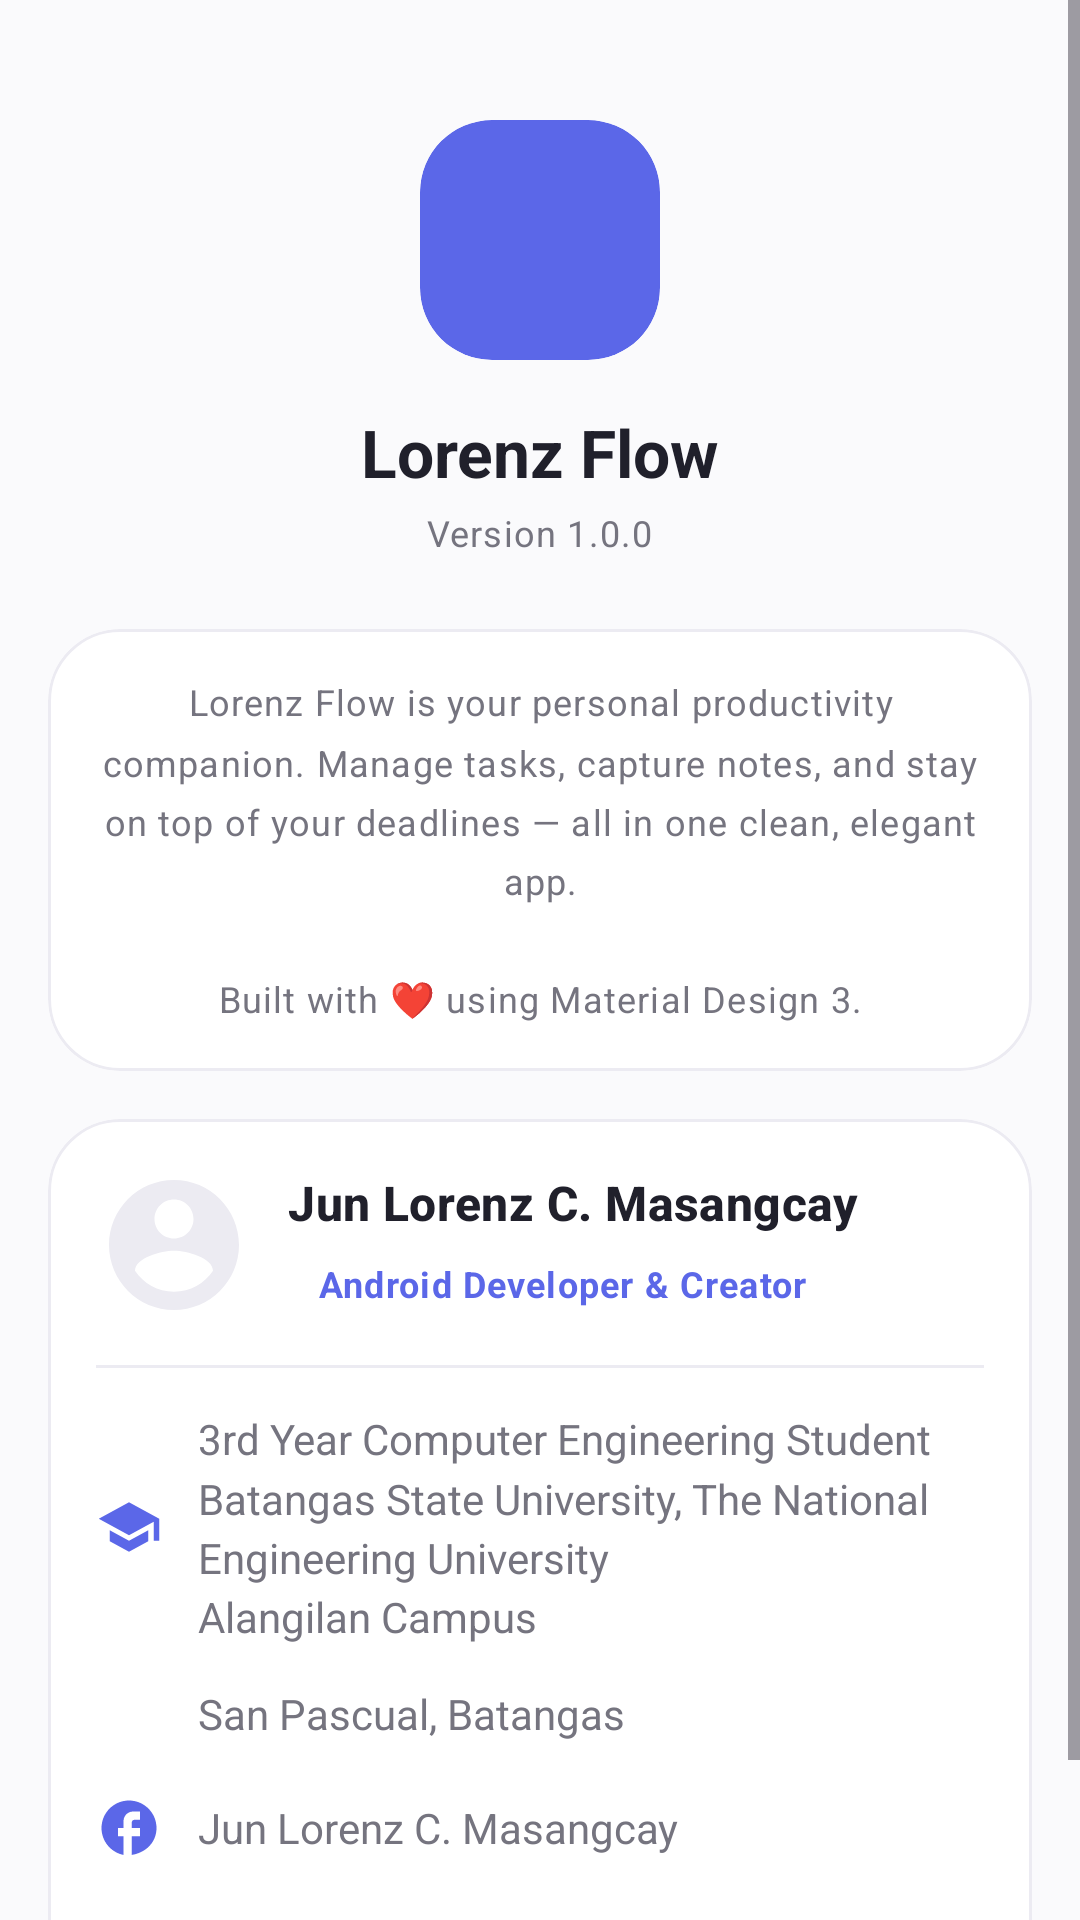

Icon bounding boxes for this 1080×1920 phone screenshot, format [left=x1, top=y1, right=x2, bottom=y2]:
school: [left=99, top=1502, right=160, bottom=1552]
